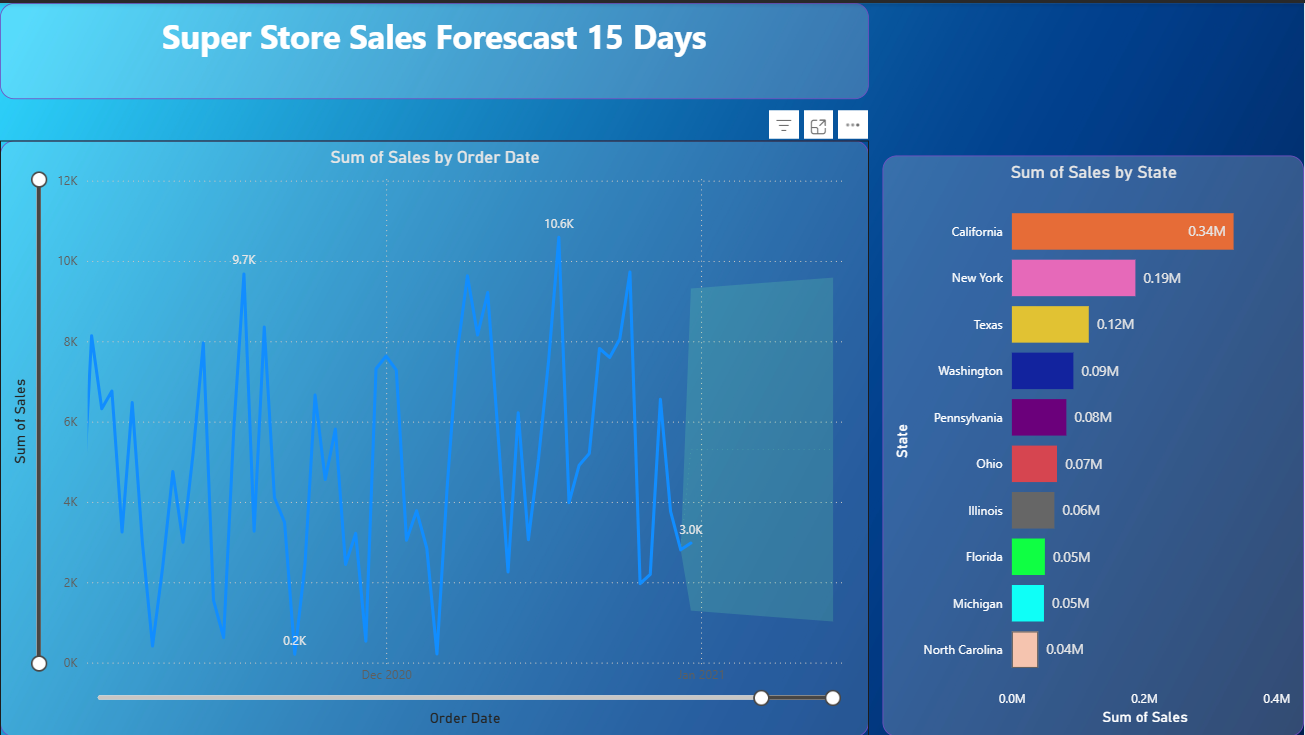

What the dashboard file says about the page in this screenshot:
{"tool":"powerbi","page":{"name":"Page 2","canvas":[1280,720],"ordinal":1},"visuals":[{"type":"lineChart","fields":{"Y":["Sum(SuperStore_Sales_Dataset.Sales)"],"Category":["SuperStore_Sales_Dataset.Order Date"]},"box":[0,135,852.8,585.3],"z":0},{"type":"clusteredBarChart","fields":{"Y":["Sum(SuperStore_Sales_Dataset.Sales)"],"Category":["SuperStore_Sales_Dataset.State"]},"box":[866.3,149.7,413.5,570.6],"z":1000},{"type":"textbox","box":[0,0,852.8,94.5],"z":2000}]}

Visuals, with their boxes in screenshot pixels (x1, y1, x2, y2), scaled from the page's 1280x720 canvas onto the 1305x735 screenshot:
lineChart - Sum(SuperStore_Sales_Dataset.Sales) x SuperStore_Sales_Dataset.Order Date: x1=0, y1=138, x2=869, y2=734
clusteredBarChart - Sum(SuperStore_Sales_Dataset.Sales) x SuperStore_Sales_Dataset.State: x1=883, y1=153, x2=1304, y2=734
textbox: x1=0, y1=0, x2=869, y2=96
